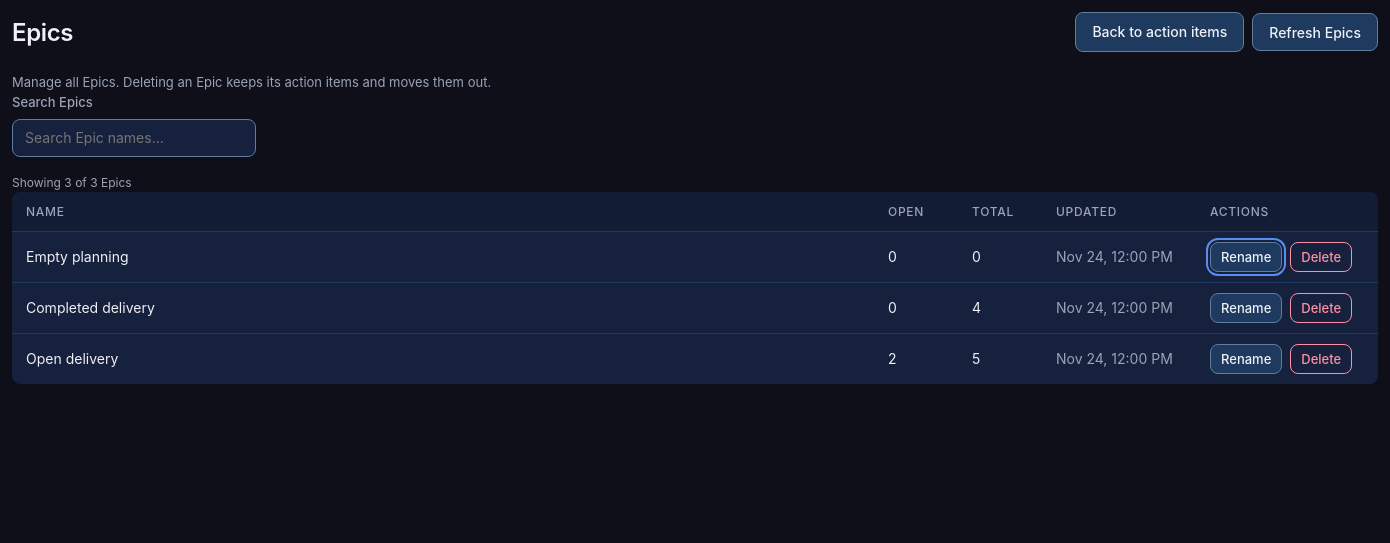
Test case: renames with the displayed revision and restores its own control after canceling
This screenshot has width=1390, height=543.
Click the button with aria-label "Rename Epic Empty planning". click: {"x": 1246, "y": 257}
box: [1210, 242, 1282, 272]
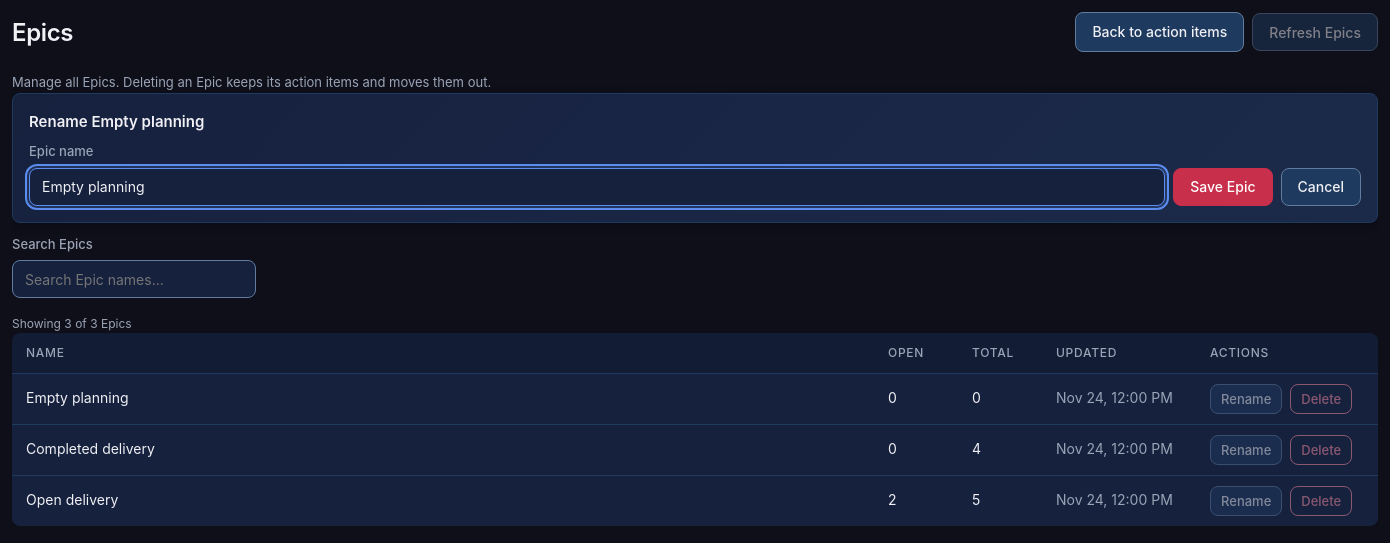
Replace the text in the field labelled "Epic name" with "Reviewed planning". click: {"x": 597, "y": 187}
box: [29, 168, 1165, 206]
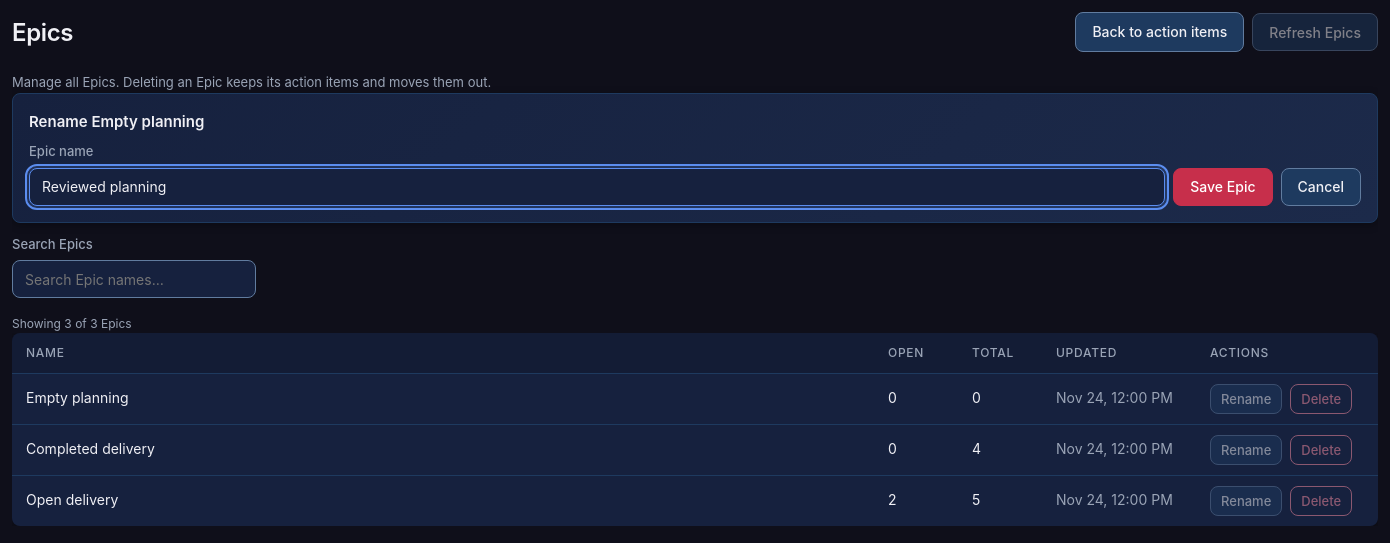
Click the button "Cancel". click: {"x": 1321, "y": 187}
box: [1280, 168, 1361, 206]
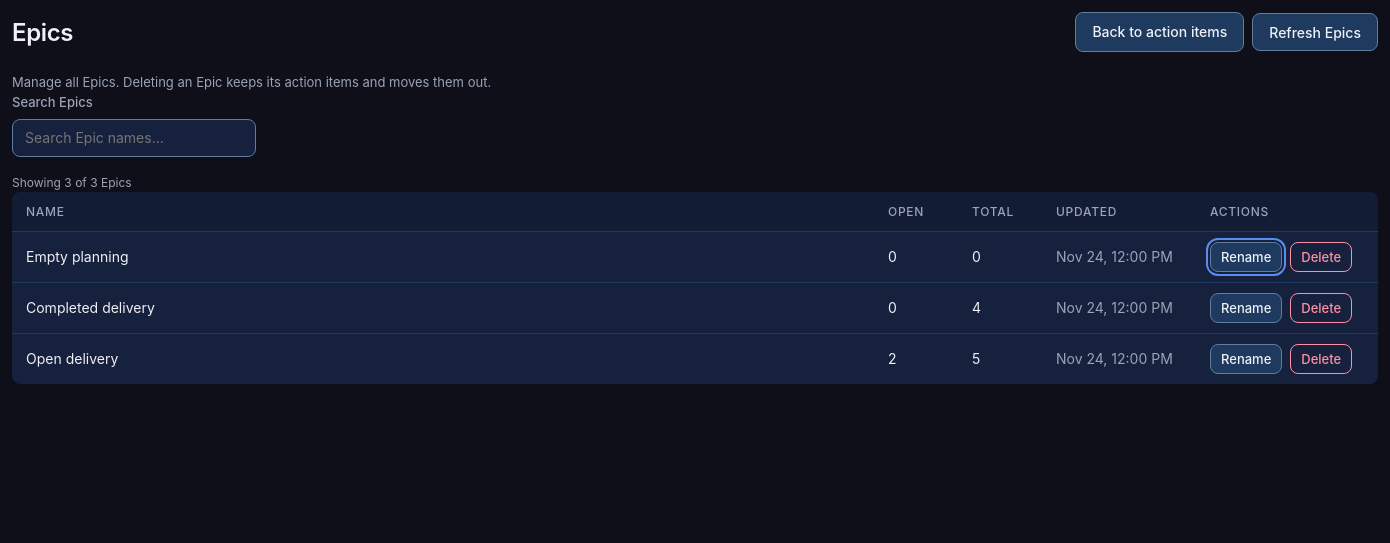
Click the button with aria-label "Rename Epic Empty planning". click: {"x": 1246, "y": 257}
box: [1210, 242, 1282, 272]
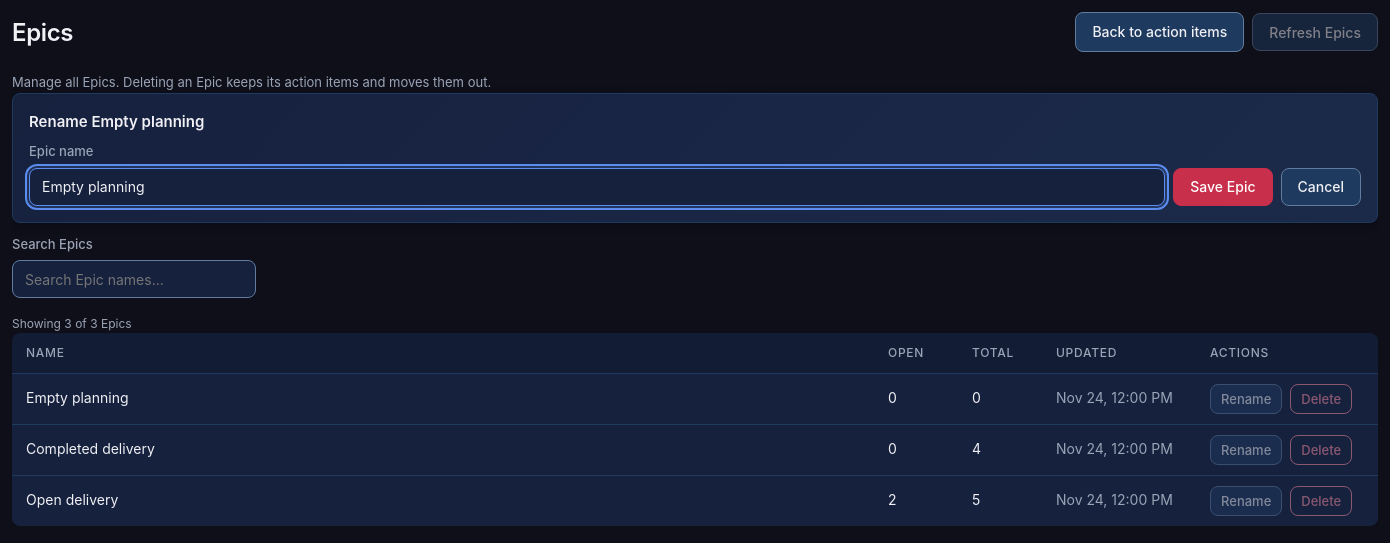
Replace the text in the field labelled "Epic name" with "Reviewed planning". click: {"x": 597, "y": 187}
box: [29, 168, 1165, 206]
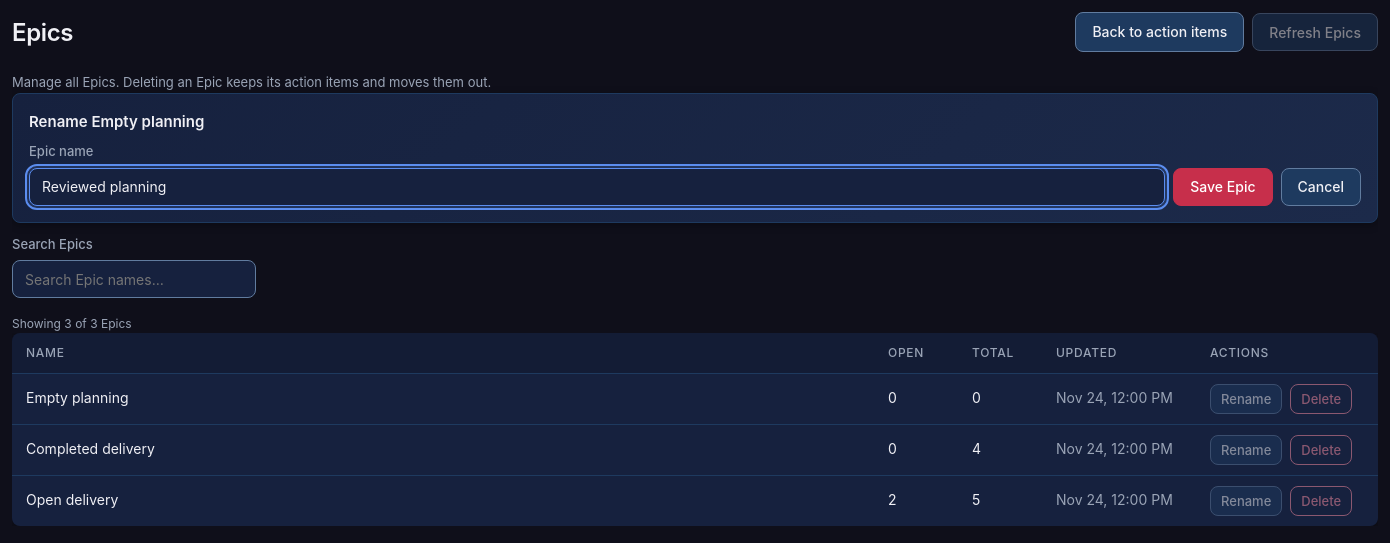
Click the button "Save Epic". click: {"x": 1223, "y": 187}
box: [1173, 168, 1272, 206]
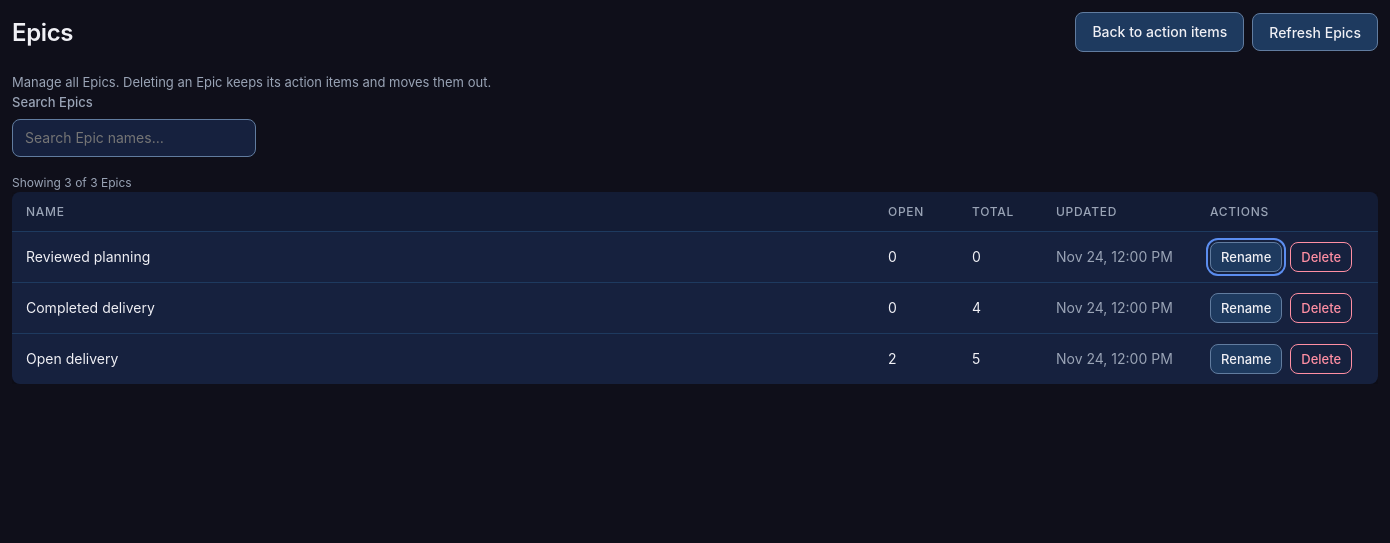
Now the text "Reviewed planning" is shown, box [12, 232, 874, 283]
